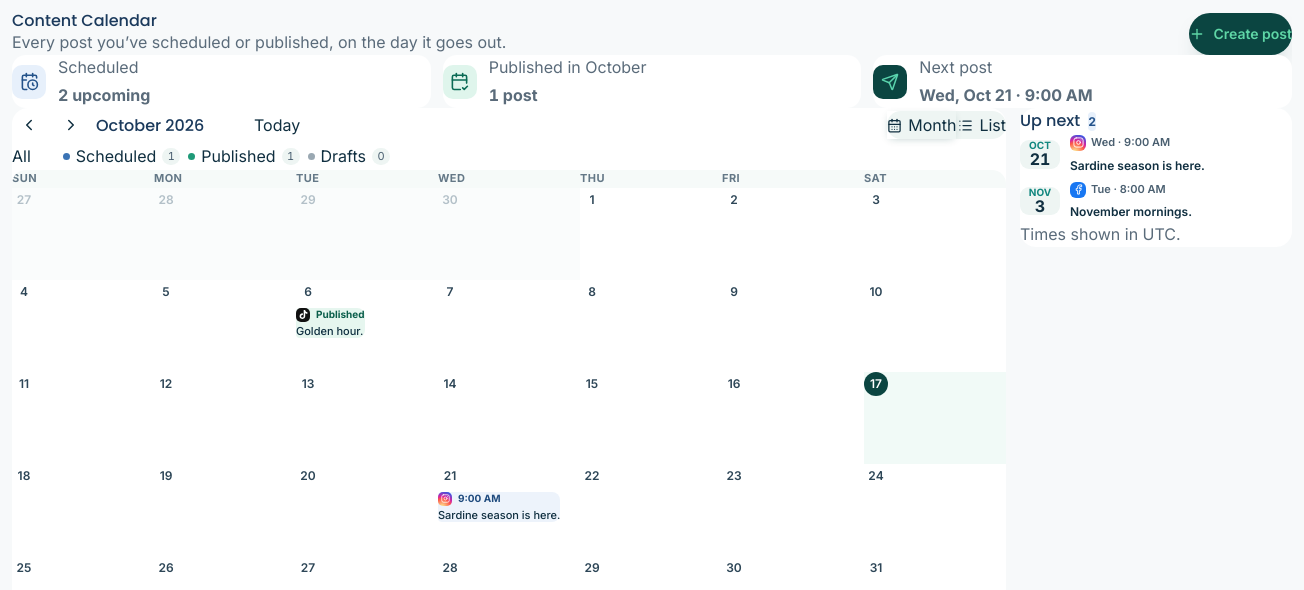
Test: CalendarView › moves between months
The width and height of the screenshot is (1304, 590).
Click the button named "Next month" at (71, 125), box left=54, top=108, right=88, bottom=142
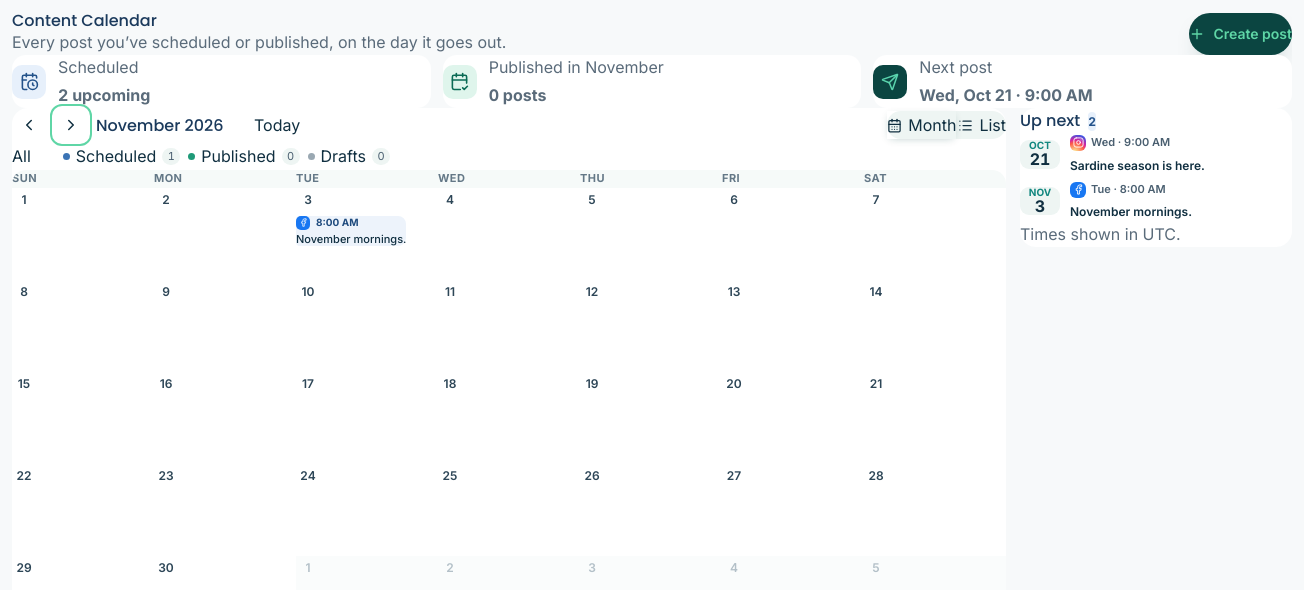
Expected: the heading "November 2026" is shown, left=96, top=114, right=224, bottom=137
Expected: the button with aria-label "Tuesday, November 3: 1 post" is shown, left=296, top=188, right=438, bottom=280
